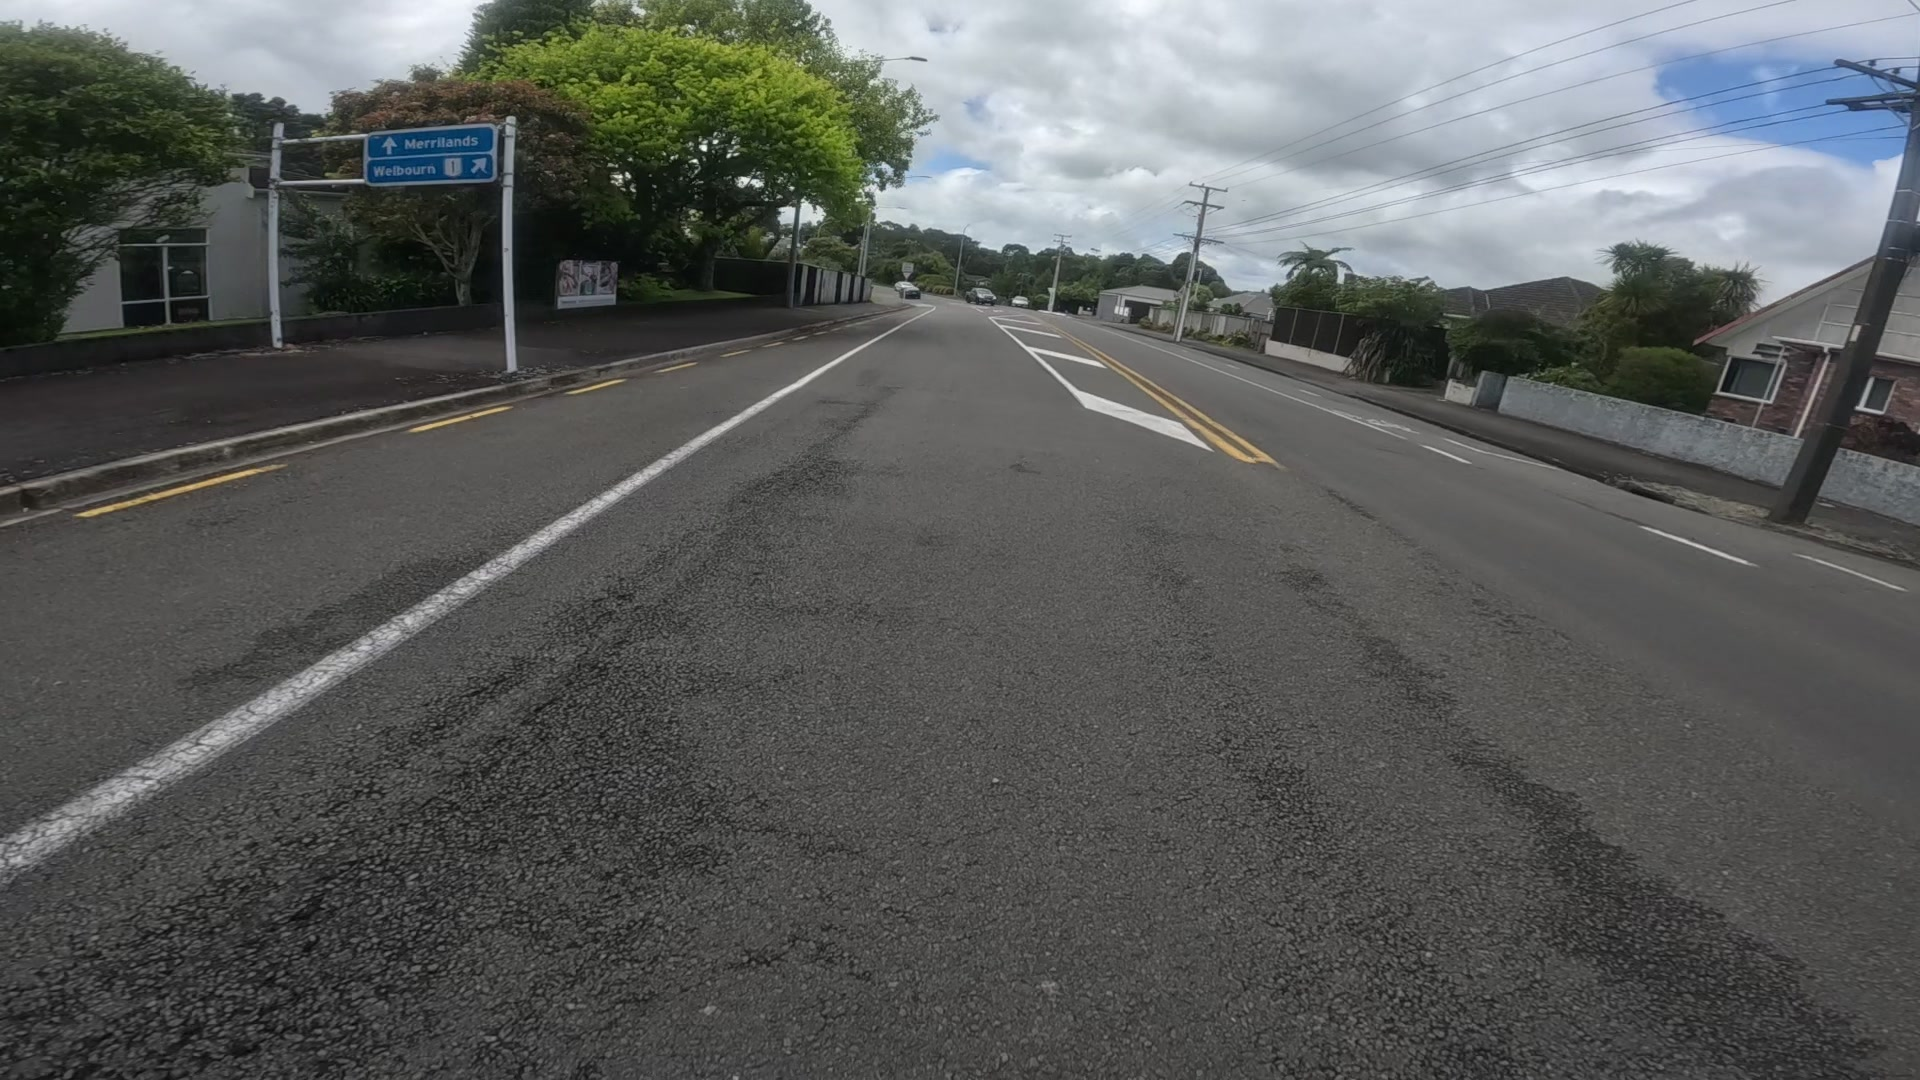Longitudinal_Cracking: (411, 583, 671, 822)
